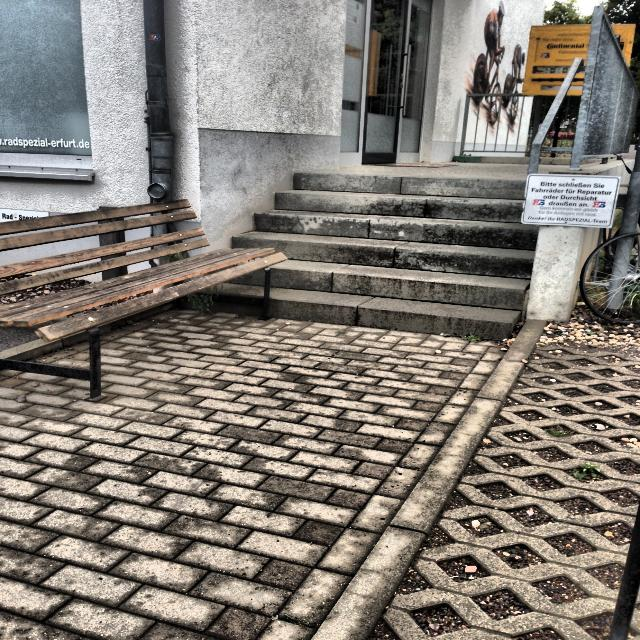escada: (197, 166, 542, 342)
